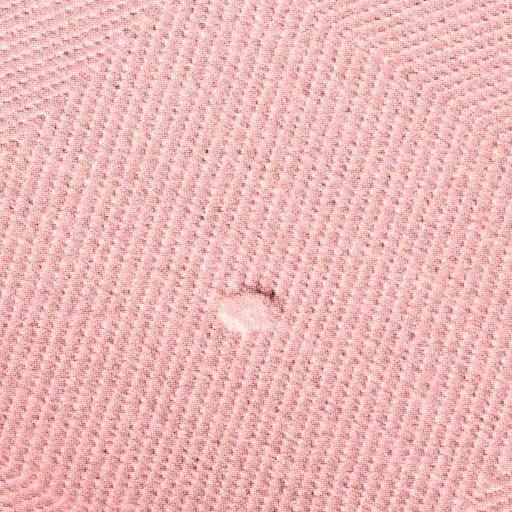knot: (205, 277, 291, 340)
